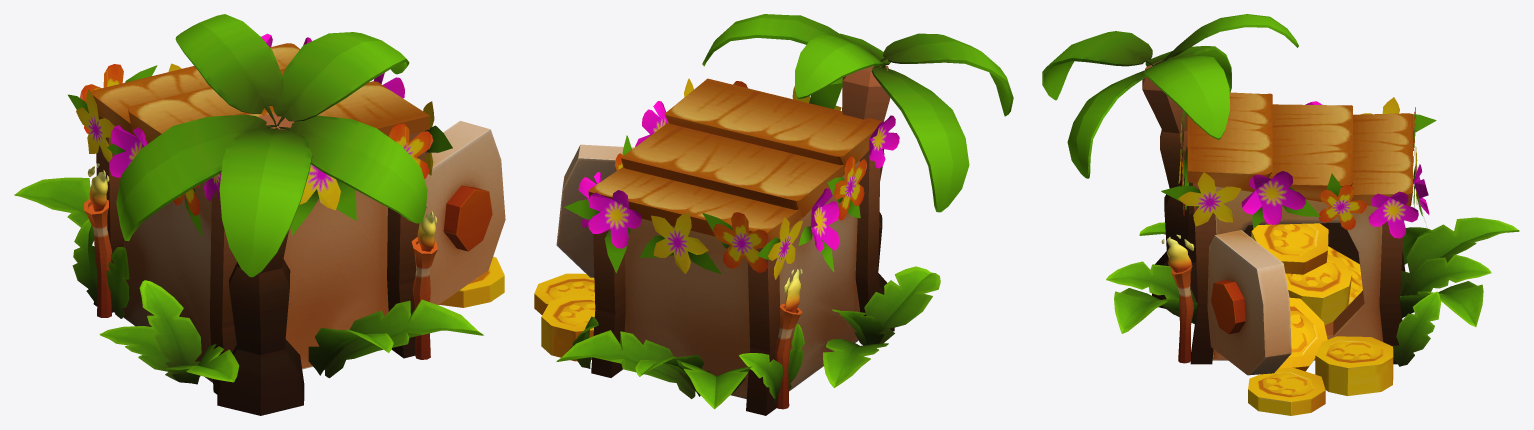
File: Safe Tropical.obj
The picture shows the model from 3 angles, left to right: view 1: azimuth 30°, elevation 25°; view 2: azimuth 150°, elevation 25°; view 3: azimuth 270°, elevation 25°; orthographic projection. The views are drawn at different scales.
Visible parts, largest first — view 1: SafeTropical1; view 2: SafeTropical1; view 3: SafeTropical1.
Part boxes in pixels (x1=…): SafeTropical1: x1=14, y1=14, x2=505, y2=415; SafeTropical1: x1=534, y1=14, x2=1013, y2=415; SafeTropical1: x1=1042, y1=14, x2=1519, y2=415.
Size of the model in its own units: 12.48 by 9.64 by 14.89.
1 material, 1 textured.
